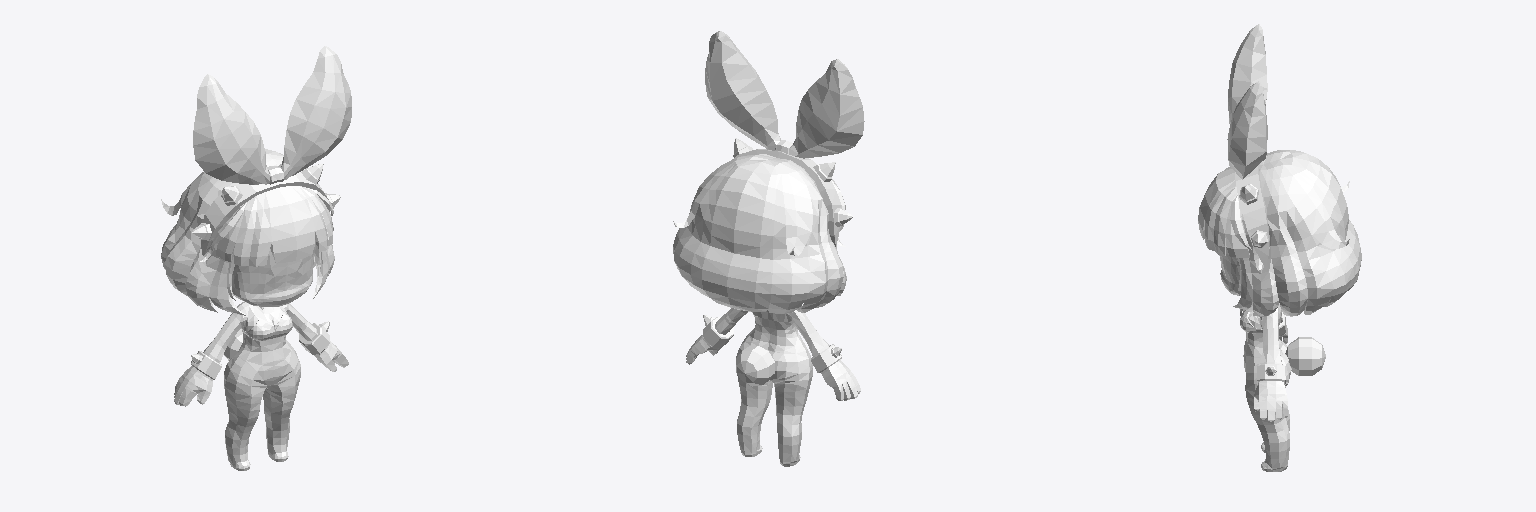
Rendered from Vanilla.obj.
The picture shows the model from 3 angles: view 1: azimuth 30°, elevation 25°; view 2: azimuth 150°, elevation 25°; view 3: azimuth 270°, elevation 25°; orthographic projection.
Parts seen in each view (by area): view 1: [number redacted]_Bunnygirl3_hair, [number redacted]_Bunnygirl3_hair.001, [number redacted]_Bunnygirl3_hair.002; view 2: [number redacted]_Bunnygirl3_hair, [number redacted]_Bunnygirl3_hair.001, [number redacted]_Bunnygirl3_hair.002; view 3: [number redacted]_Bunnygirl3_hair.001, [number redacted]_Bunnygirl3_hair, [number redacted]_Bunnygirl3_hair.002.
Boxes of the visible parts, x1,y1,x2,y2 form: [number redacted]_Bunnygirl3_hair: [191, 46, 351, 470]; [number redacted]_Bunnygirl3_hair.001: [161, 149, 334, 315]; [number redacted]_Bunnygirl3_hair.002: [174, 240, 348, 406]; [number redacted]_Bunnygirl3_hair: [703, 31, 864, 466]; [number redacted]_Bunnygirl3_hair.001: [673, 154, 846, 313]; [number redacted]_Bunnygirl3_hair.002: [686, 308, 860, 400]; [number redacted]_Bunnygirl3_hair.001: [1198, 150, 1361, 316]; [number redacted]_Bunnygirl3_hair: [1227, 24, 1325, 471]; [number redacted]_Bunnygirl3_hair.002: [1219, 247, 1287, 421].
Bounding box in the file's own units: 84.35 × 194 × 70.9.